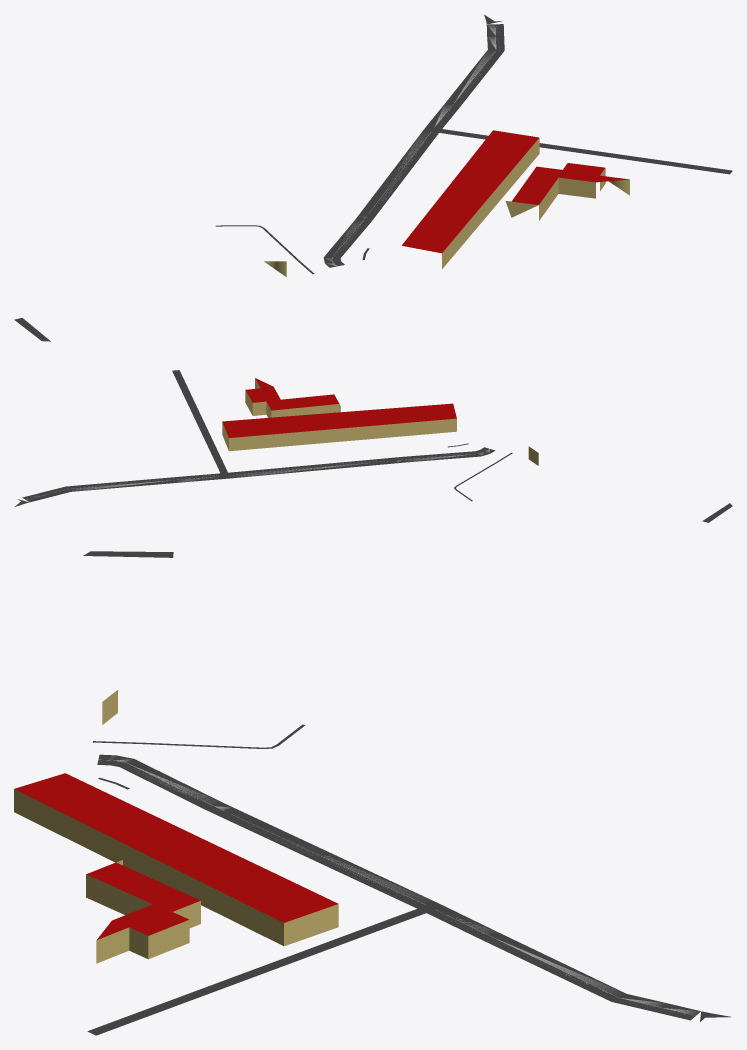
The picture shows the model from 3 angles, top to bottom: view 1: azimuth 30°, elevation 25°; view 2: azimuth 150°, elevation 25°; view 3: azimuth 270°, elevation 25°; orthographic projection. The views are drawn at different scales.
Size of the model in its own units: 334 by 7.5 by 209.
